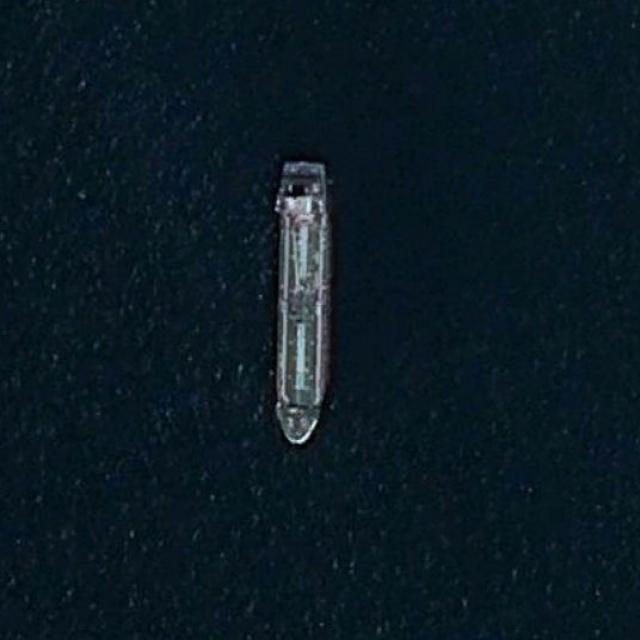ship: (271, 156, 334, 446)
